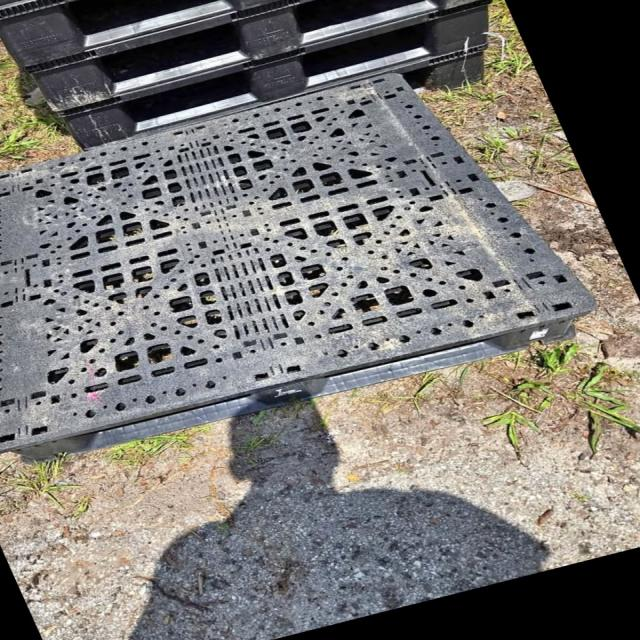non-igps: (1, 69, 604, 470), (46, 0, 496, 163), (12, 0, 506, 125), (0, 0, 264, 74), (390, 37, 504, 99)
